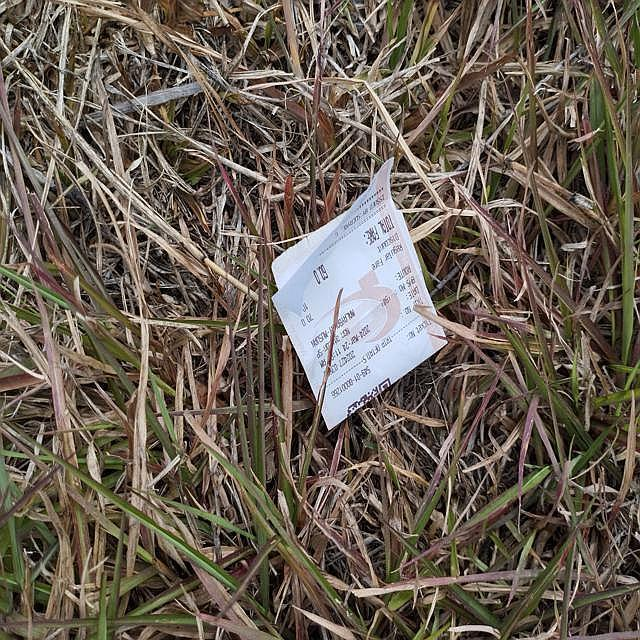Biodegradable: (259, 151, 453, 434)
